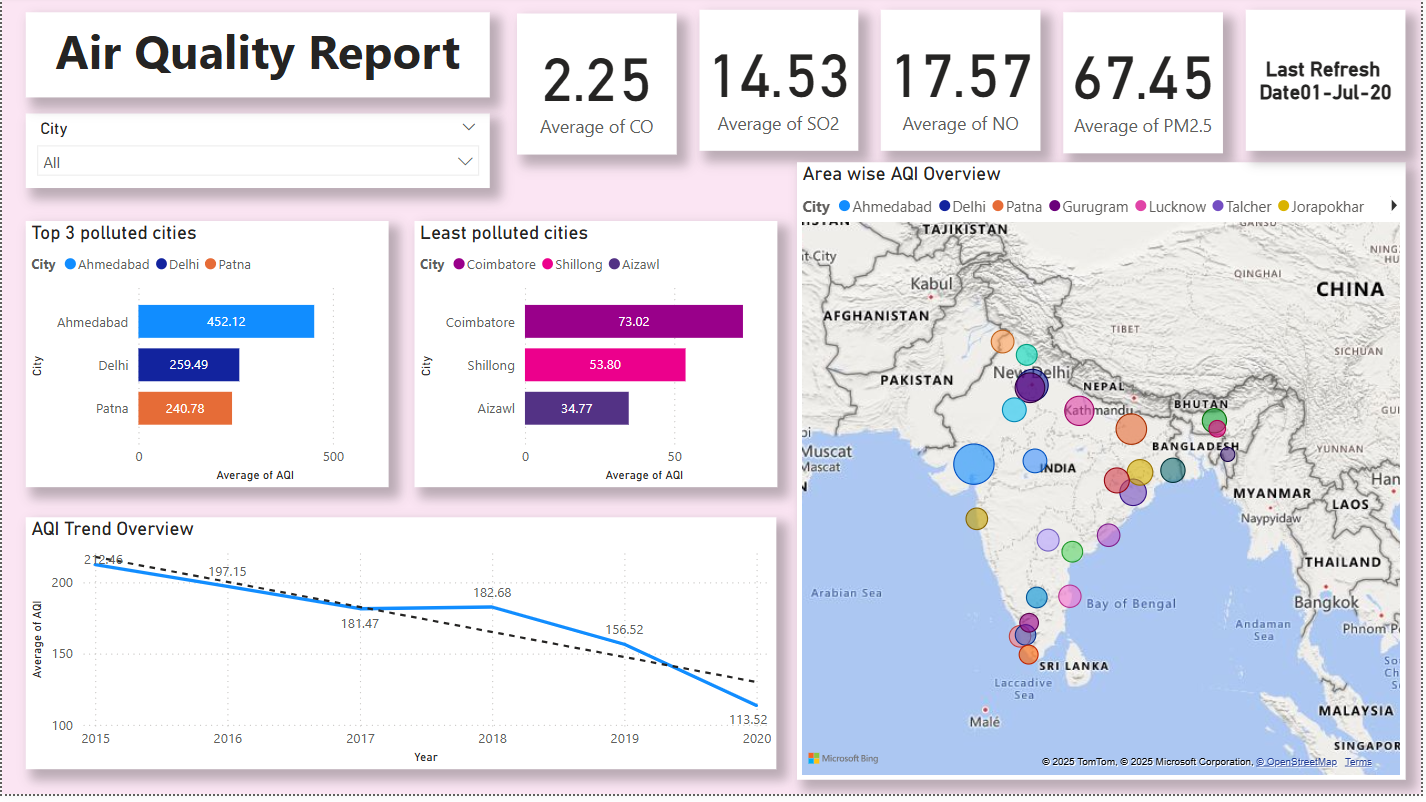

Layout of this report page (visuals, bound fields, positions):
{"tool":"powerbi","page":{"name":"Page 1","canvas":[1280,720],"ordinal":0},"visuals":[{"type":"lineChart","title":"AQI Trend Overview","fields":{"Category":["city_day.Date.Variation.Date Hierarchy.Year","city_day.Date.Variation.Date Hierarchy.Quarter","city_day.Date.Variation.Date Hierarchy.Month","city_day.Date.Variation.Date Hierarchy.Day"],"Y":["Avg(city_day.AQI)"]},"box":[21.4,470,677.1,227.1],"z":0},{"type":"slicer","fields":{"Values":["city_day.City"]},"box":[21.4,105.7,418.6,67.1],"z":1000},{"type":"barChart","title":"Top 3 polluted cities","fields":{"Category":["city_day.City"],"Y":["Avg(city_day.AQI)"],"Series":["city_day.City"]},"box":[21.4,202.9,327.1,240],"z":2000},{"type":"barChart","title":"Least polluted cities","fields":{"Category":["city_day.City"],"Y":["Avg(city_day.AQI)"],"Series":["city_day.City"]},"box":[371.4,202.9,327.1,240],"z":3000},{"type":"card","fields":{"Values":["Avg(city_day.CO)"]},"box":[464.3,15.7,144.3,127.1],"z":4000},{"type":"card","fields":{"Values":["Avg(city_day.NO)"]},"box":[792.1,12.9,144.3,127.1],"z":5000},{"type":"card","fields":{"Values":["Avg(city_day.SO2)"]},"box":[628.9,12.9,142.9,127.1],"z":6000},{"type":"card","fields":{"Values":["Avg(city_day.PM2.5)"]},"box":[956.8,14.3,144.3,127.1],"z":7000},{"type":"map","title":"Area wise AQI Overview","fields":{"Category":["city_day.City"],"Size":["Avg(city_day.AQI)"],"Series":["city_day.City"]},"box":[717.1,150,548.6,557.1],"z":8000},{"type":"textbox","box":[21.4,14.3,418.6,77.1],"z":9000},{"type":"card","fields":{"Values":["city_day.MAX Date"]},"box":[1121.4,12.9,144.3,127.1],"z":10000}]}

Visuals, with their boxes in screenshot pixels (x1, y1, x2, y2), scaled from the page's 1280x720 canvas onto the 1426x802 screenshot:
"AQI Trend Overview" lineChart: 24,524,778,776
slicer - city_day.City: 24,118,490,192
"Top 3 polluted cities" barChart: 24,226,388,493
"Least polluted cities" barChart: 414,226,778,493
card - Avg(city_day.CO): 517,17,678,159
card - Avg(city_day.NO): 882,14,1043,156
card - Avg(city_day.SO2): 701,14,860,156
card - Avg(city_day.PM2.5): 1066,16,1227,158
"Area wise AQI Overview" map: 799,167,1410,788
textbox: 24,16,490,102
card - city_day.MAX Date: 1249,14,1410,156
